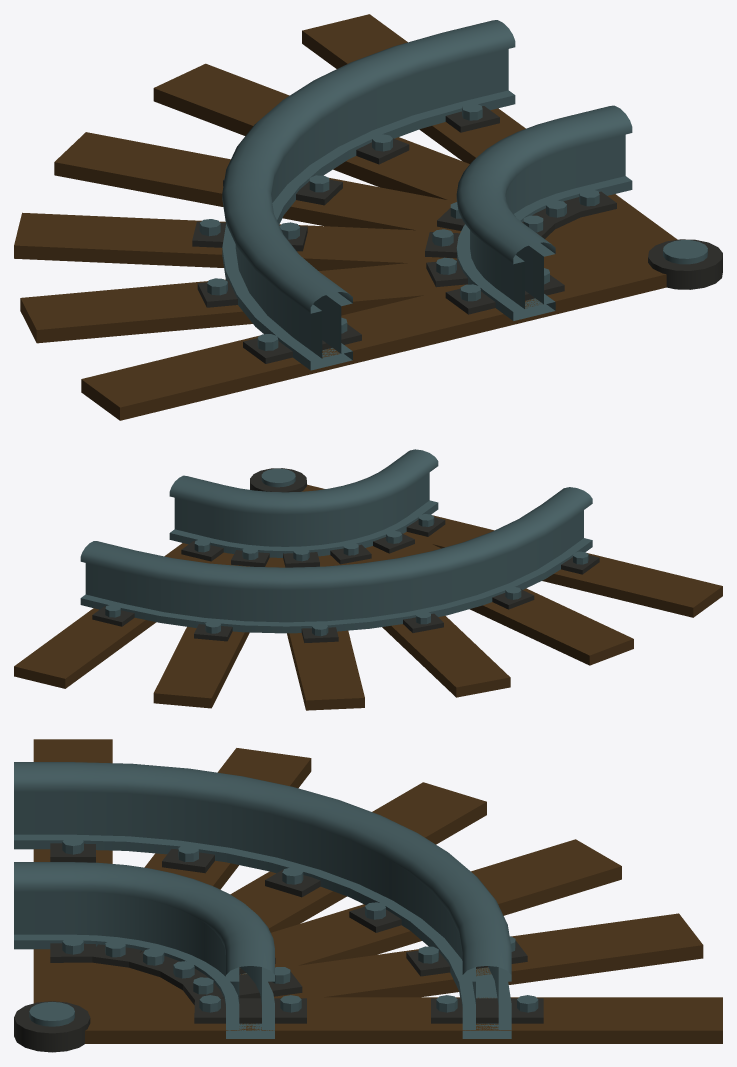
Rendered from CA_049_rail_curve_var1.glb.
The picture shows the model from 3 angles, top to bottom: view 1: azimuth 30°, elevation 25°; view 2: azimuth 150°, elevation 25°; view 3: azimuth 270°, elevation 25°; orthographic projection. The views are drawn at different scales.
Visible parts, largest first — view 1: wooden_planks, rails, wooden_planks_joint; view 2: rails, wooden_planks, wooden_planks_joint; view 3: wooden_planks, rails, wooden_planks_joint.
Boxes of the visible parts, <box> form: wooden_planks: <box>14,14,677,420</box>; rails: <box>222,20,632,370</box>; wooden_planks_joint: <box>648,239,722,289</box>; rails: <box>80,449,592,633</box>; wooden_planks: <box>14,484,722,710</box>; wooden_planks_joint: <box>250,468,306,492</box>; wooden_planks: <box>33,739,722,1043</box>; rails: <box>14,762,511,1038</box>; wooden_planks_joint: <box>14,1001,90,1052</box>.
Size of the model in its own units: 2.25 by 0.3031 by 2.25.
